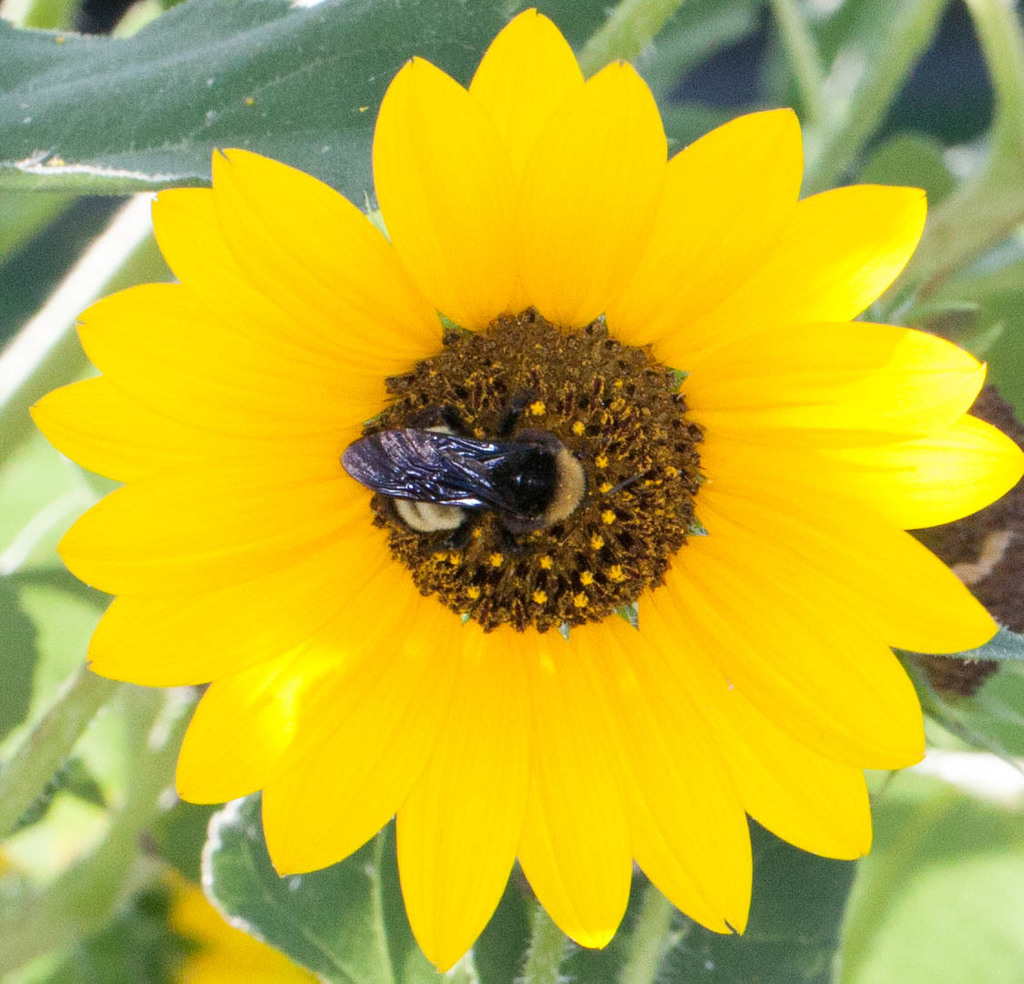bumblebee: (339, 420, 584, 539)
